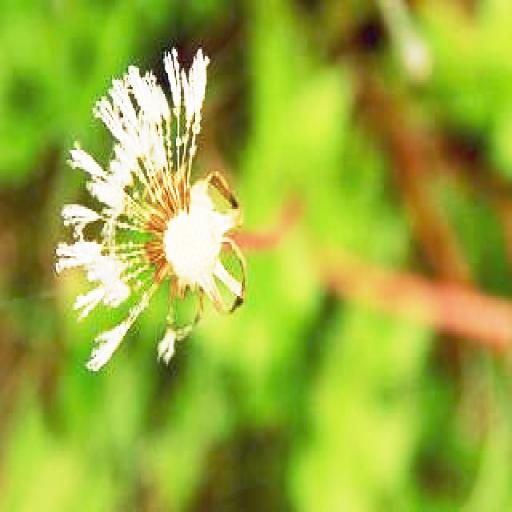dandelion: (58, 42, 254, 366)
